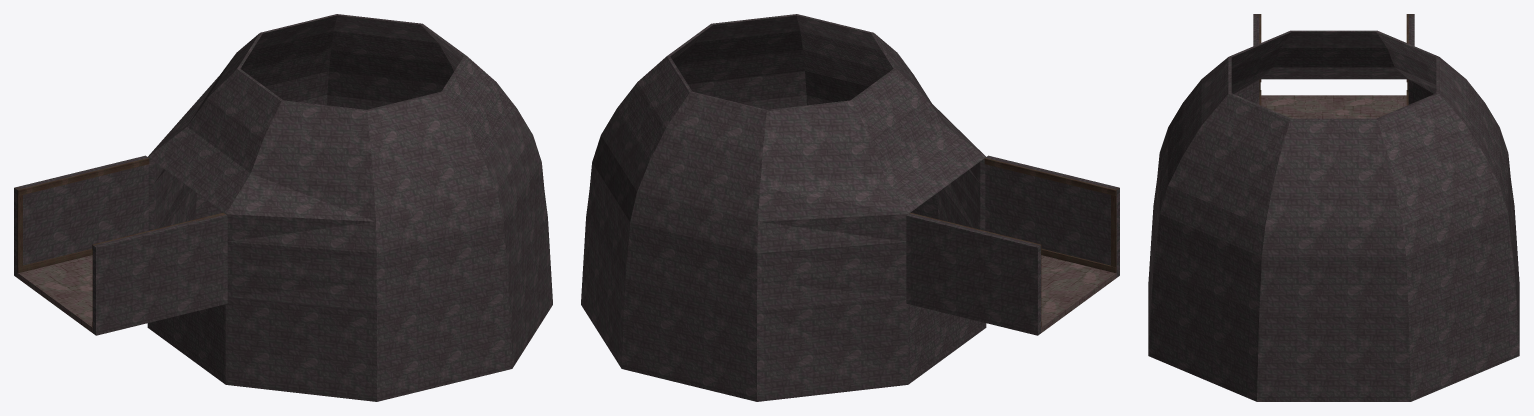
The model's file is Herzraum.fbx.
3 views of the same model, side by side, from view 1: azimuth 30°, elevation 25°; view 2: azimuth 150°, elevation 25°; view 3: azimuth 270°, elevation 25° (orthographic).
Visible parts, largest first — view 1: Herzraum; view 2: Herzraum; view 3: Herzraum.
Boxes of the visible parts, bbox=[...] form: Herzraum: bbox=[14, 14, 552, 401]; Herzraum: bbox=[581, 14, 1119, 401]; Herzraum: bbox=[1148, 14, 1519, 401].
Bounding box in the file's own units: 1743 × 1243 × 920.
